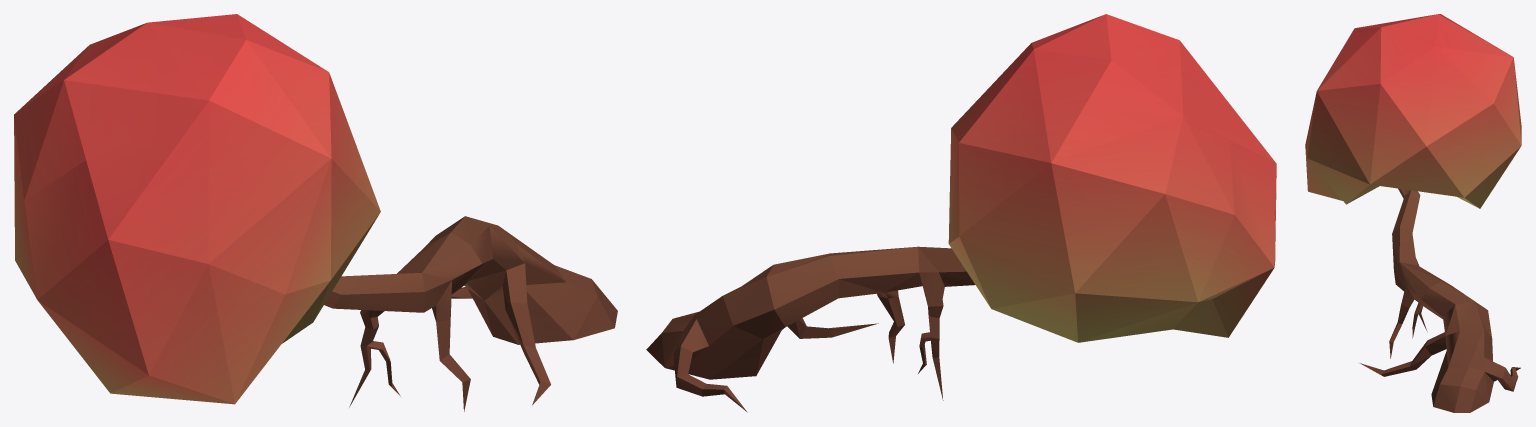
File: ZLP_Plant_D_13.FBX
3 renders of one model, left to right at view 1: azimuth 30°, elevation 25°; view 2: azimuth 150°, elevation 25°; view 3: azimuth 270°, elevation 25°, orthographic. The views are drawn at different scales.
Parts seen in each view (by area): view 1: ZLP_Plant_D_13; view 2: ZLP_Plant_D_13; view 3: ZLP_Plant_D_13.
Part boxes in pixels (x1,y1,x2,y2): ZLP_Plant_D_13: (14,14,617,411); ZLP_Plant_D_13: (646,14,1276,412); ZLP_Plant_D_13: (1305,14,1521,412).
Size of the model in its own units: 255 by 168 by 124.
